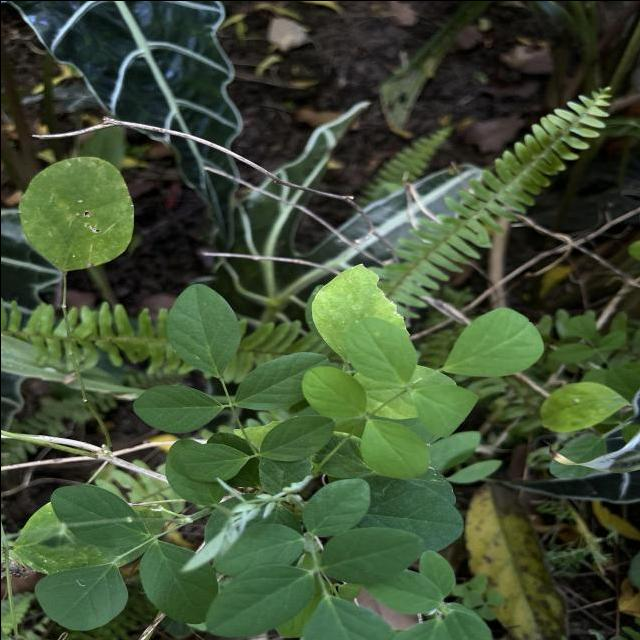Clitoria ternatea: (164, 282, 242, 378), (33, 562, 129, 632), (131, 383, 224, 433), (258, 414, 336, 462), (168, 442, 250, 482)
